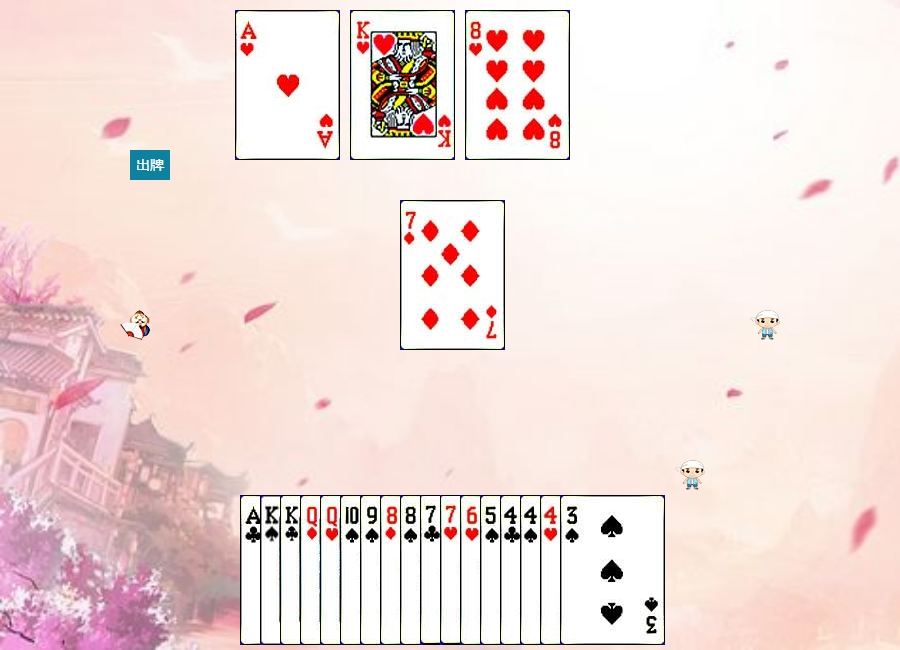10~4: (340, 495, 445, 645)
12~1: (300, 495, 405, 645)
12~3: (320, 495, 425, 645)
13~2: (280, 495, 385, 645)
13~3: (350, 10, 455, 160)
13~4: (260, 495, 365, 645)
14~2: (240, 495, 345, 645)
14~3: (235, 10, 340, 160)
3~4: (560, 495, 665, 645)
4~2: (500, 495, 605, 645)
4~3: (540, 495, 645, 645)
4~4: (520, 495, 625, 645)
5~4: (480, 495, 585, 645)
6~3: (460, 495, 565, 645)
7~1: (400, 200, 505, 350)
7~2: (420, 495, 525, 645)
7~3: (440, 495, 545, 645)
8~1: (380, 495, 485, 645)
8~3: (465, 10, 570, 160)
8~4: (400, 495, 505, 645)
9~4: (360, 495, 465, 645)
